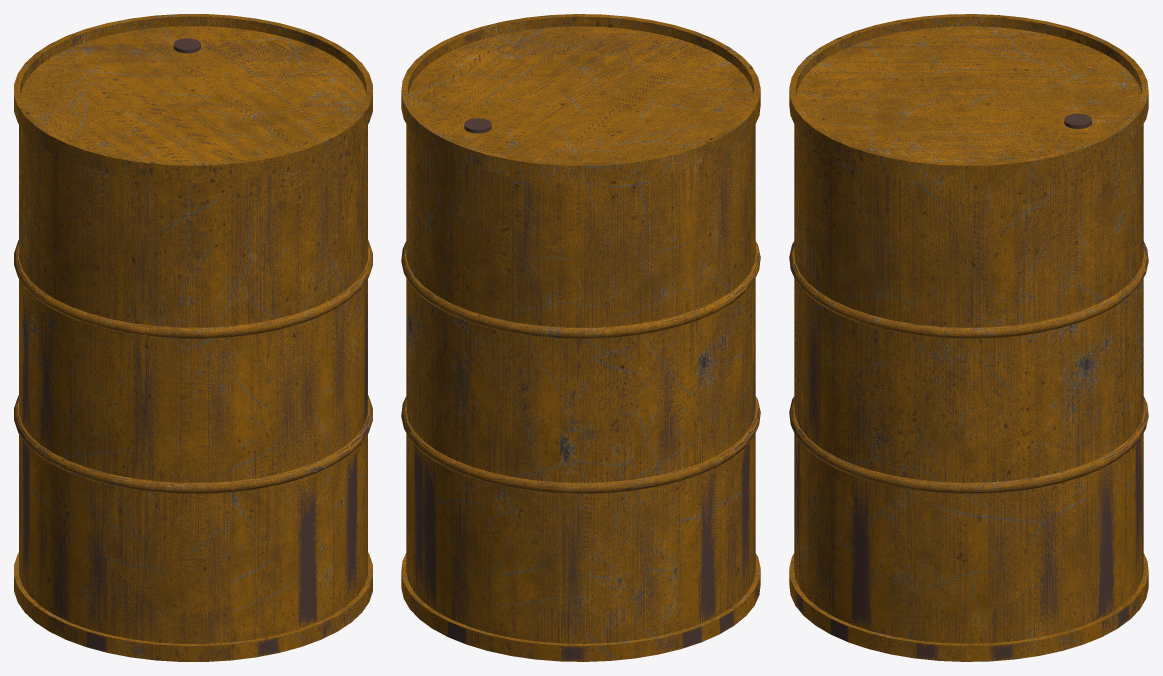
The model's file is Barrel.fbx.
The picture shows the model from 3 angles, left to right: view 1: azimuth 30°, elevation 25°; view 2: azimuth 150°, elevation 25°; view 3: azimuth 270°, elevation 25°; orthographic projection.
Visible parts, largest first — view 1: Group1; view 2: Group1; view 3: Group1.
Boxes of the visible parts, left/top/right/bottom form: Group1: left=14, top=14, right=372, bottom=661; Group1: left=401, top=14, right=760, bottom=661; Group1: left=789, top=14, right=1148, bottom=661.
Bounding box in the file's own units: 22.75 × 34.65 × 22.75.
